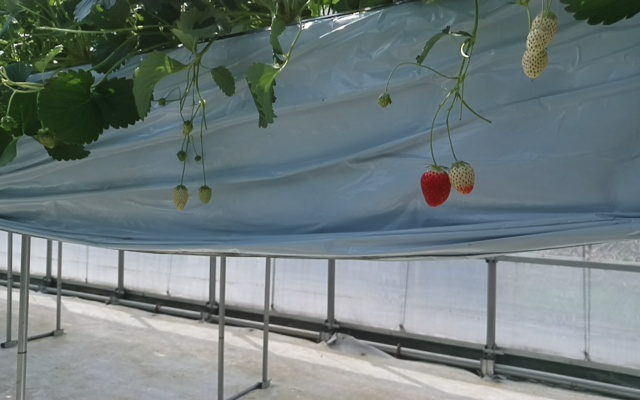GreenStrawberry: (527, 9, 558, 56), (448, 158, 478, 197), (519, 45, 550, 80), (172, 184, 189, 213), (196, 184, 214, 206)
MatureStrawberry: (419, 163, 453, 209)
